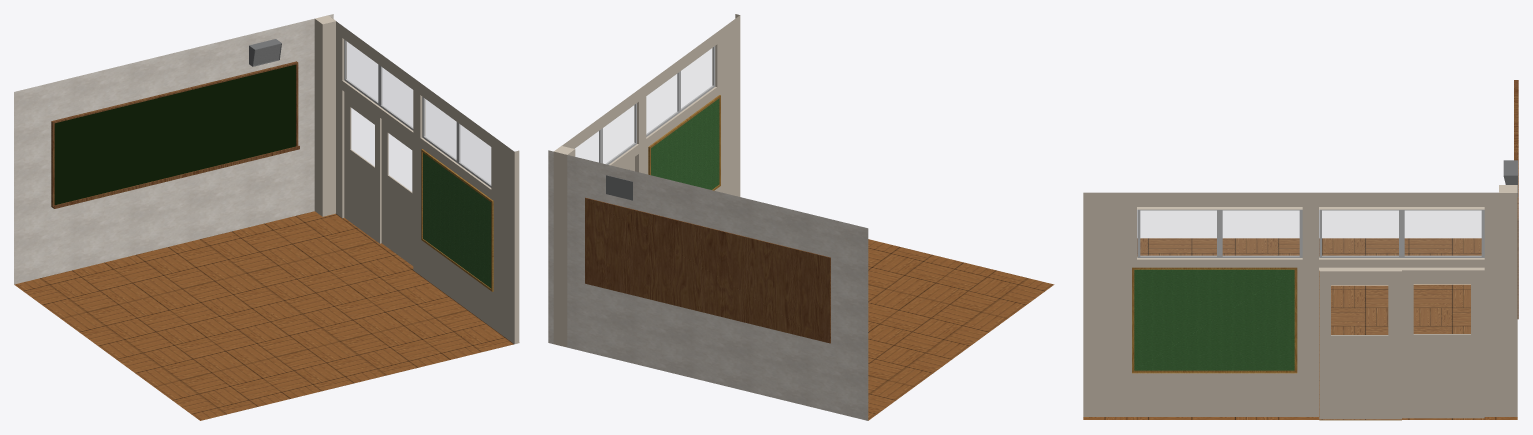
Rendered from ModelRoom_3.fbx.
The picture shows the model from 3 angles, left to right: view 1: azimuth 30°, elevation 25°; view 2: azimuth 150°, elevation 25°; view 3: azimuth 270°, elevation 25°; orthographic projection. The views are drawn at different scales.
Visible parts, largest first — view 1: Floor, Wall_2, BlackBoard, Wall_1, ClasRoomDoor, pillar, ClassRoomWindow, ClassRoomWindow.001, ClassRoomSpeaker; view 2: Wall_2, BlackBoard, Floor, Wall_1, pillar, ClassRoomWindow.001, ClassRoomWindow, ClassRoomSpeaker; view 3: Wall_1, ClasRoomDoor, Floor, ClassRoomWindow, ClassRoomWindow.001, pillar, BlackBoard.
Part boxes in pixels (x1,y1,x2,y2): Floor: (14,211,513,420); Wall_2: (14,14,333,284); BlackBoard: (51,61,299,208); Wall_1: (336,21,519,344); ClasRoomDoor: (344,92,413,265); pillar: (314,15,335,216); ClassRoomWindow: (344,39,413,130); ClassRoomWindow.001: (422,97,491,187); ClassRoomSpeaker: (249,39,281,66); Wall_2: (548,150,868,420); BlackBoard: (585,197,830,343); Floor: (868,239,1054,420); Wall_1: (562,14,740,196); pillar: (553,146,575,347); ClassRoomWindow.001: (646,46,715,136); ClassRoomWindow: (575,103,636,164); ClassRoomSpeaker: (606,175,632,200); Wall_1: (1083,192,1498,416); ClasRoomDoor: (1319,269,1484,420); Floor: (1083,238,1517,419); ClassRoomWindow: (1319,209,1484,257); ClassRoomWindow.001: (1137,209,1302,257); pillar: (1499,185,1517,416); BlackBoard: (1514,80,1518,319).
Bounding box in the file's own units: 470 × 270 × 474.
